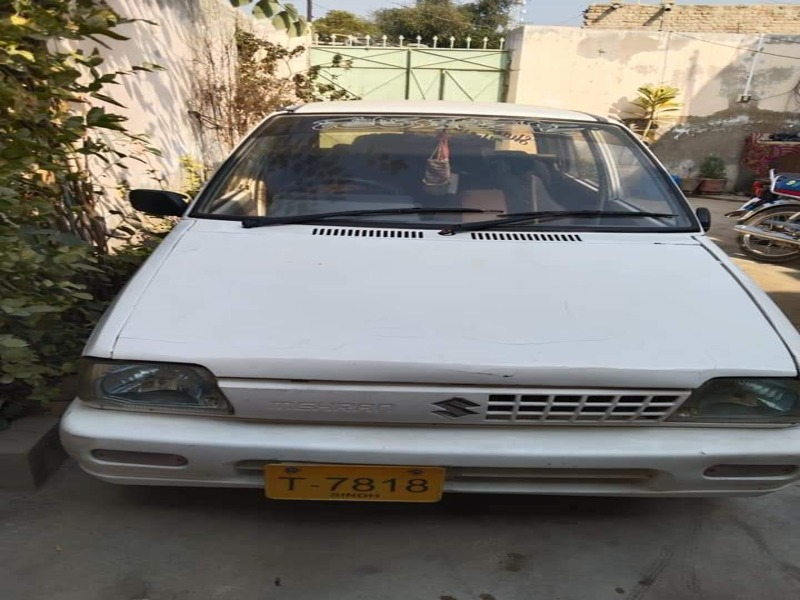License Plate: (260, 460, 449, 515)
